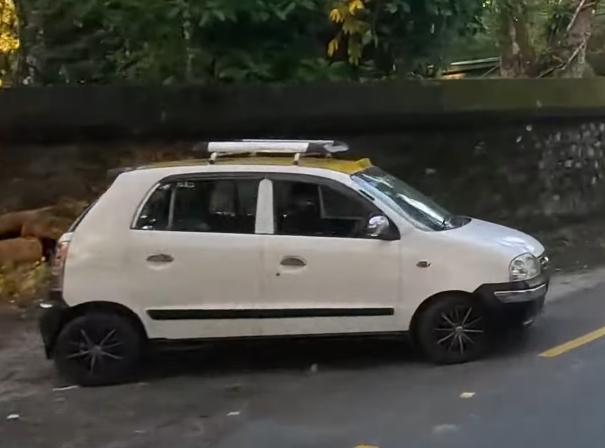taxi: (35, 117, 554, 377)
